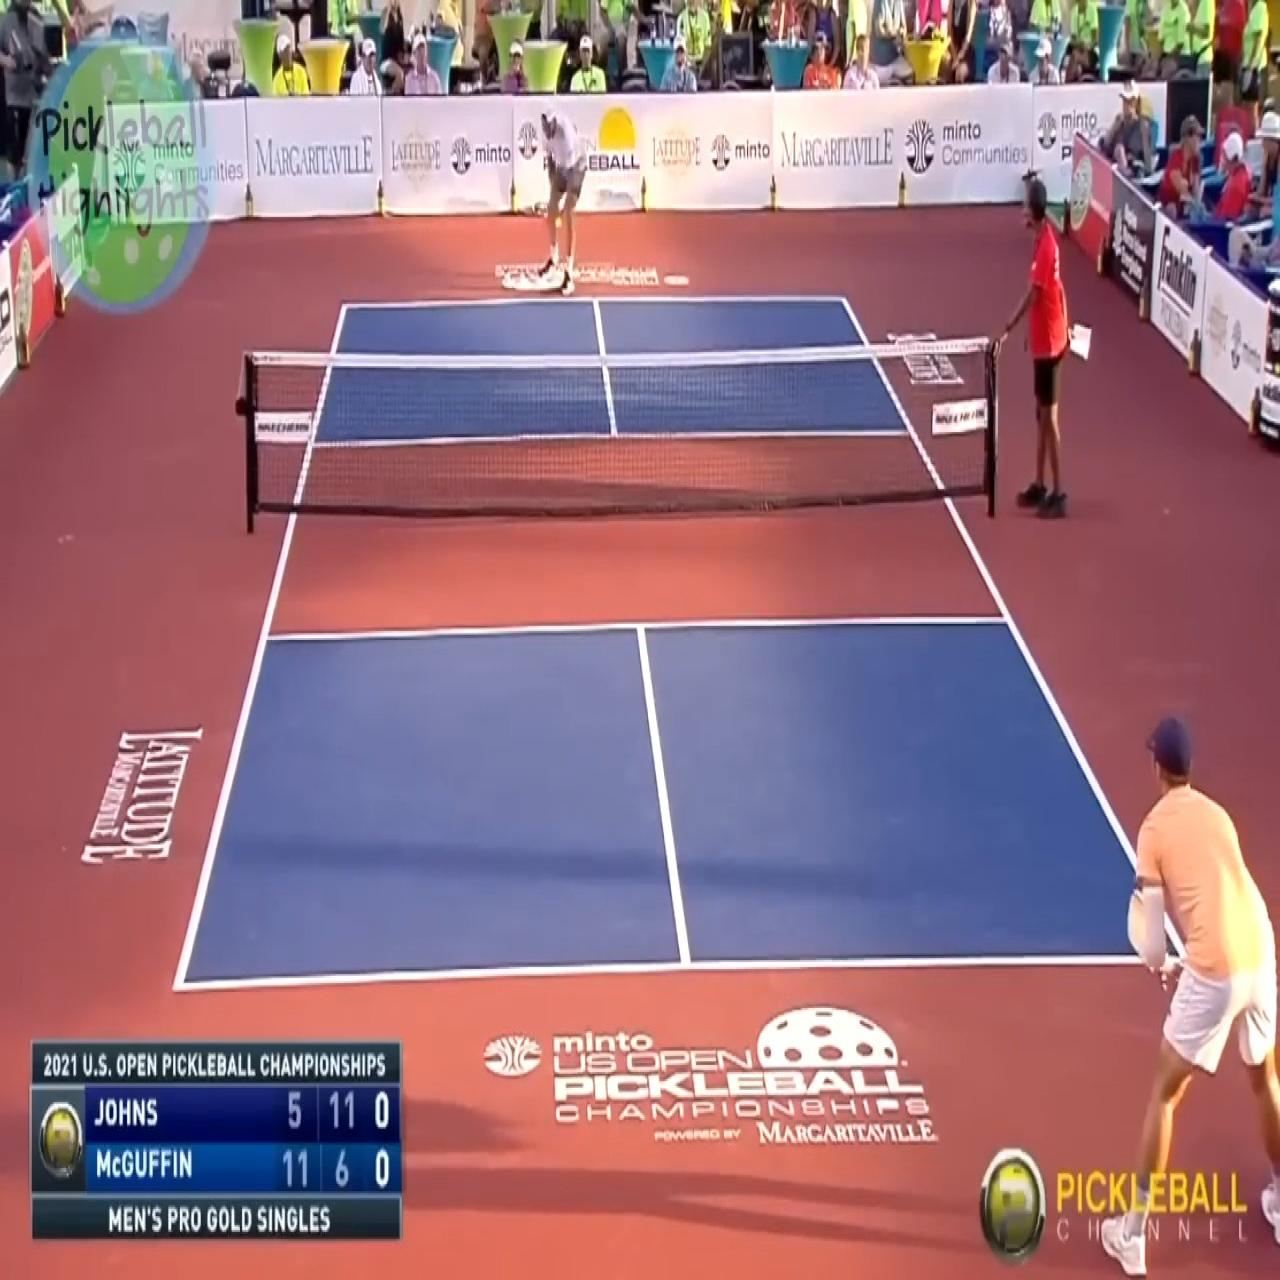pickleball: (554, 217, 563, 229)
